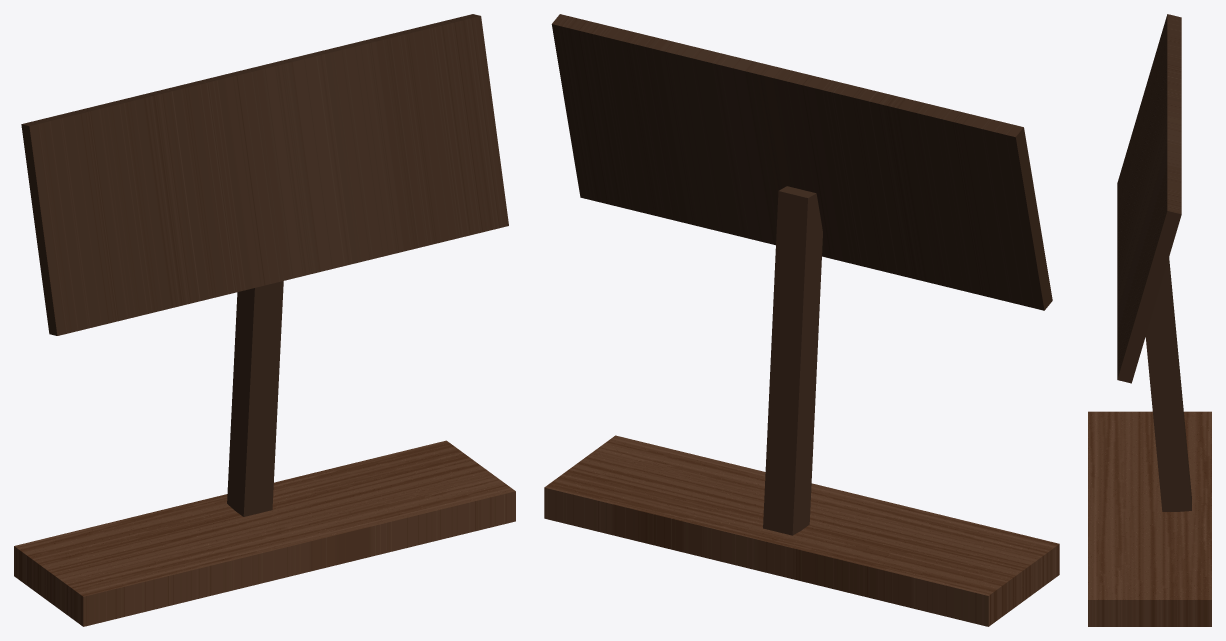
Rendered from signstand.glb.
The picture shows the model from 3 angles, left to right: view 1: azimuth 30°, elevation 25°; view 2: azimuth 150°, elevation 25°; view 3: azimuth 270°, elevation 25°; orthographic projection. The views are drawn at different scales.
Parts seen in each view (by area): view 1: signstand; view 2: signstand; view 3: signstand.
Part boxes in pixels (left/top/right/bottom): signstand: left=14, top=14, right=515, bottom=626; signstand: left=544, top=14, right=1059, bottom=626; signstand: left=1088, top=14, right=1211, bottom=626.
Size of the model in its own units: 0.188 by 0.1872 by 0.05.
2 materials, 2 textured.
